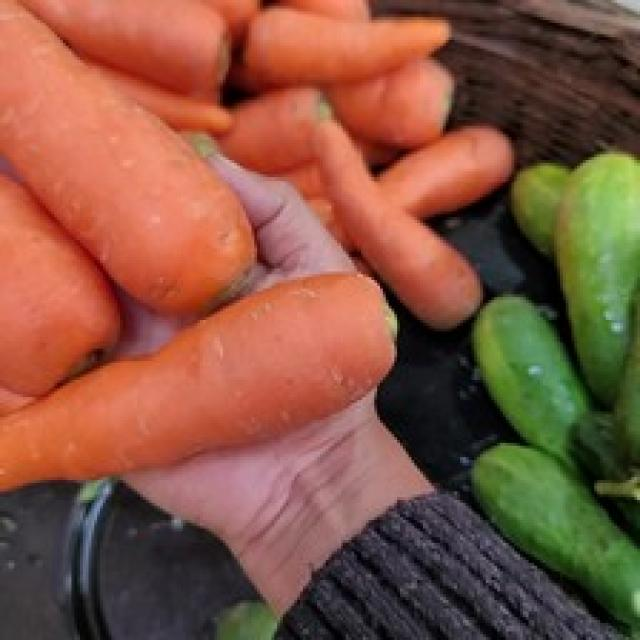Fresh_Carrot: (0, 3, 429, 434)
